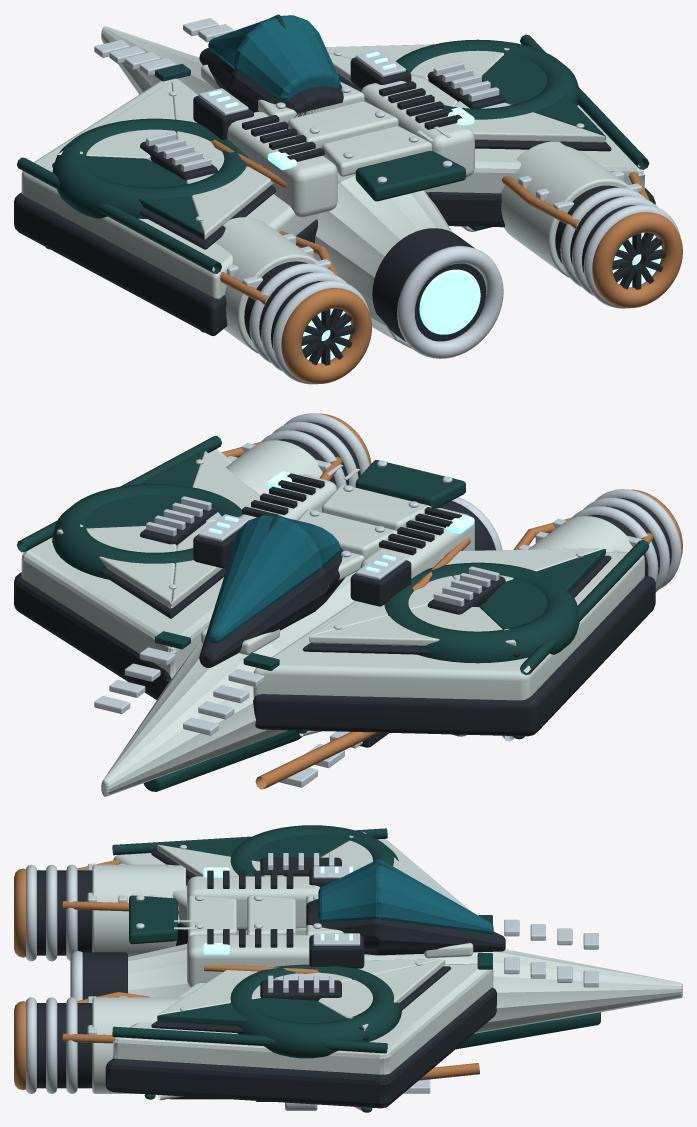
The picture shows the model from 3 angles, top to bottom: view 1: azimuth 30°, elevation 25°; view 2: azimuth 150°, elevation 25°; view 3: azimuth 270°, elevation 25°; orthographic projection. The views are drawn at different scales.
Parts seen in each view (by area): view 1: SolidHull_11; view 2: SolidHull_11; view 3: SolidHull_11.
Boxes of the visible parts, x1,y1,x2,y2 form: SolidHull_11: (14,14,682,384); SolidHull_11: (14,413,682,796); SolidHull_11: (14,825,682,1112).
Size of the model in its own units: 2.59 by 1.15 by 3.28.
